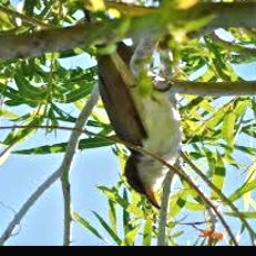Cuckoo: (69, 0, 182, 210)
